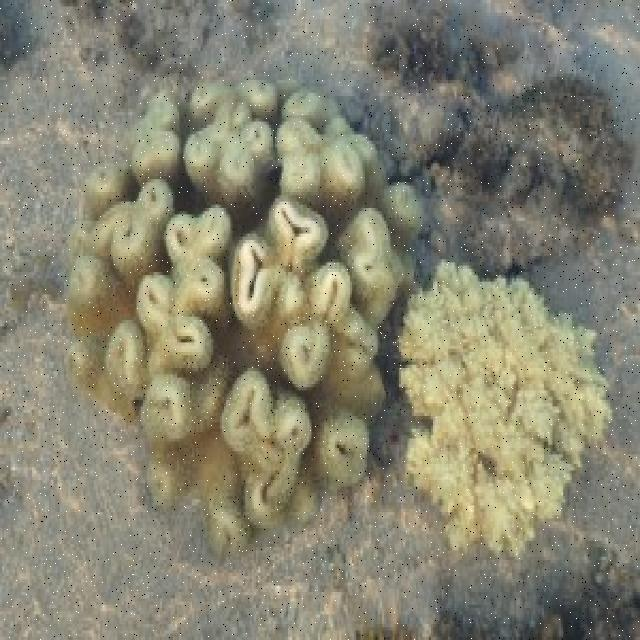Bleached: (59, 90, 420, 549), (403, 263, 613, 560), (384, 87, 462, 163), (488, 208, 583, 260), (510, 120, 589, 168), (432, 167, 463, 230)
Healthy: (371, 22, 631, 272)
